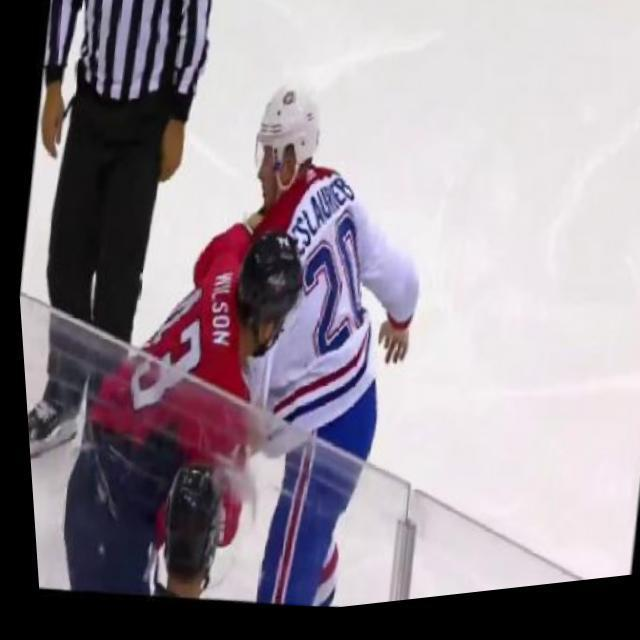fight: (19, 37, 473, 638)
